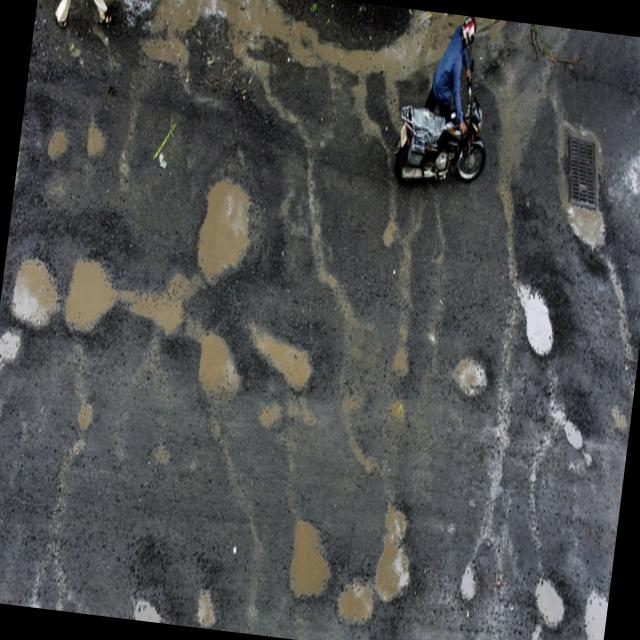Potholes: (120, 172, 278, 390), (528, 88, 640, 294), (333, 489, 422, 640), (123, 539, 238, 631), (1, 223, 70, 337), (497, 266, 563, 382), (58, 236, 124, 350), (242, 324, 330, 408), (282, 512, 340, 602), (444, 328, 501, 416), (521, 545, 573, 640), (542, 392, 596, 453), (445, 555, 493, 623), (75, 114, 122, 171), (67, 394, 99, 474), (581, 576, 611, 640), (43, 114, 81, 162)
